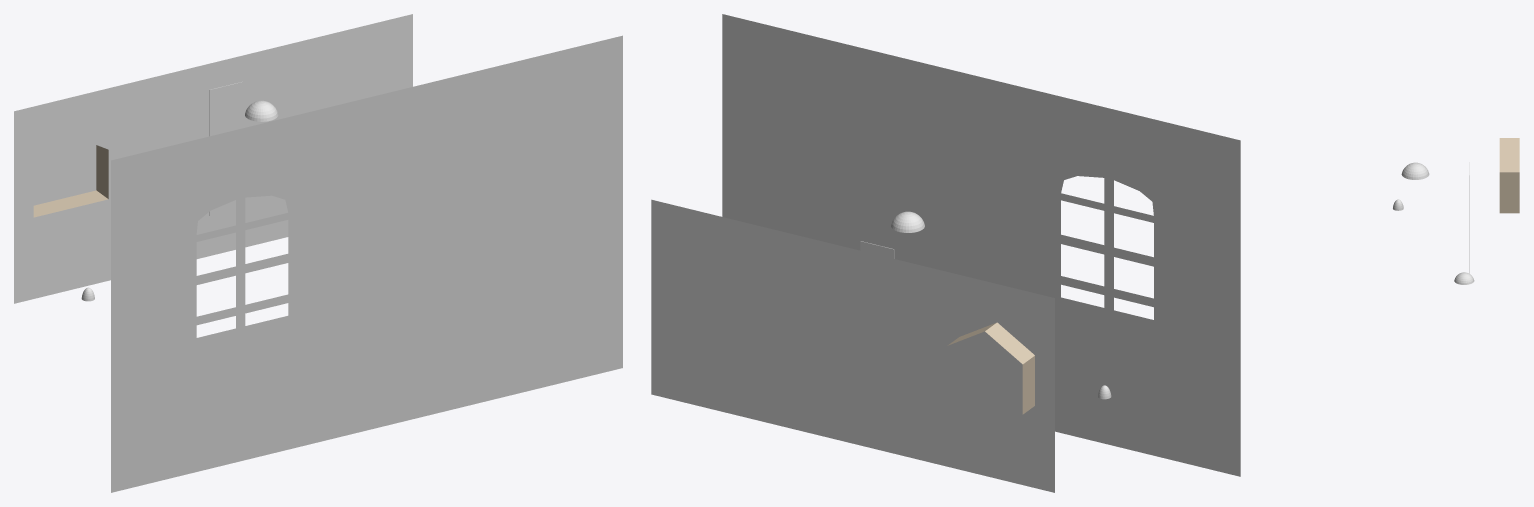
The model's file is Luzes.fbx.
The picture shows the model from 3 angles, left to right: view 1: azimuth 30°, elevation 25°; view 2: azimuth 150°, elevation 25°; view 3: azimuth 270°, elevation 25°; orthographic projection. The views are drawn at different scales.
Parts seen in each view (by area): view 1: Plane, Parede Fundo, GuardPortEsq; view 2: Plane, Parede Fundo; view 3: Parede Fundo, Sphere.
Boxes of the visible parts, x1,y1,x2,y2 form: Plane: (111,35,622,492); Parede Fundo: (14,14,412,303); GuardPortEsq: (209,81,242,215); Plane: (722,14,1240,476); Parede Fundo: (651,199,1054,492); Parede Fundo: (1499,138,1519,213); Sphere: (1401,162,1429,179).
Size of the model in its own units: 3364 by 2087 by 1733.
